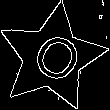O_SW: (21, 25, 83, 90)
